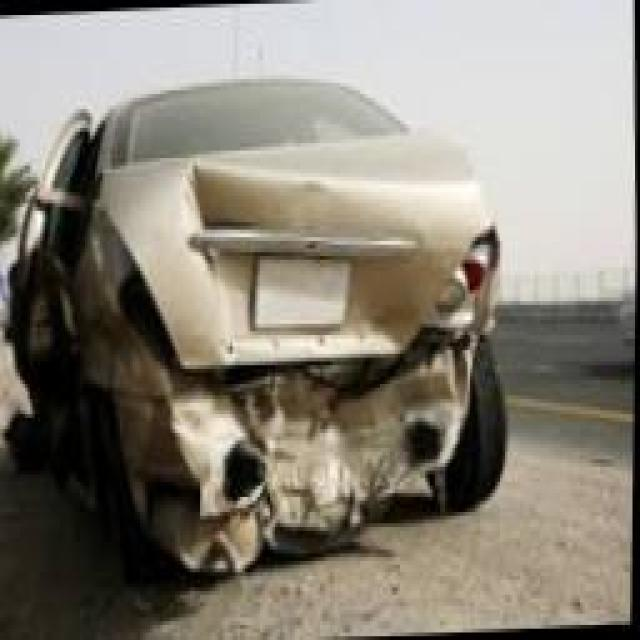Bumper: (122, 338, 475, 580)
Dickey: (99, 130, 485, 372)
Door: (16, 116, 107, 509)
Light: (100, 228, 181, 376), (411, 235, 498, 346)
